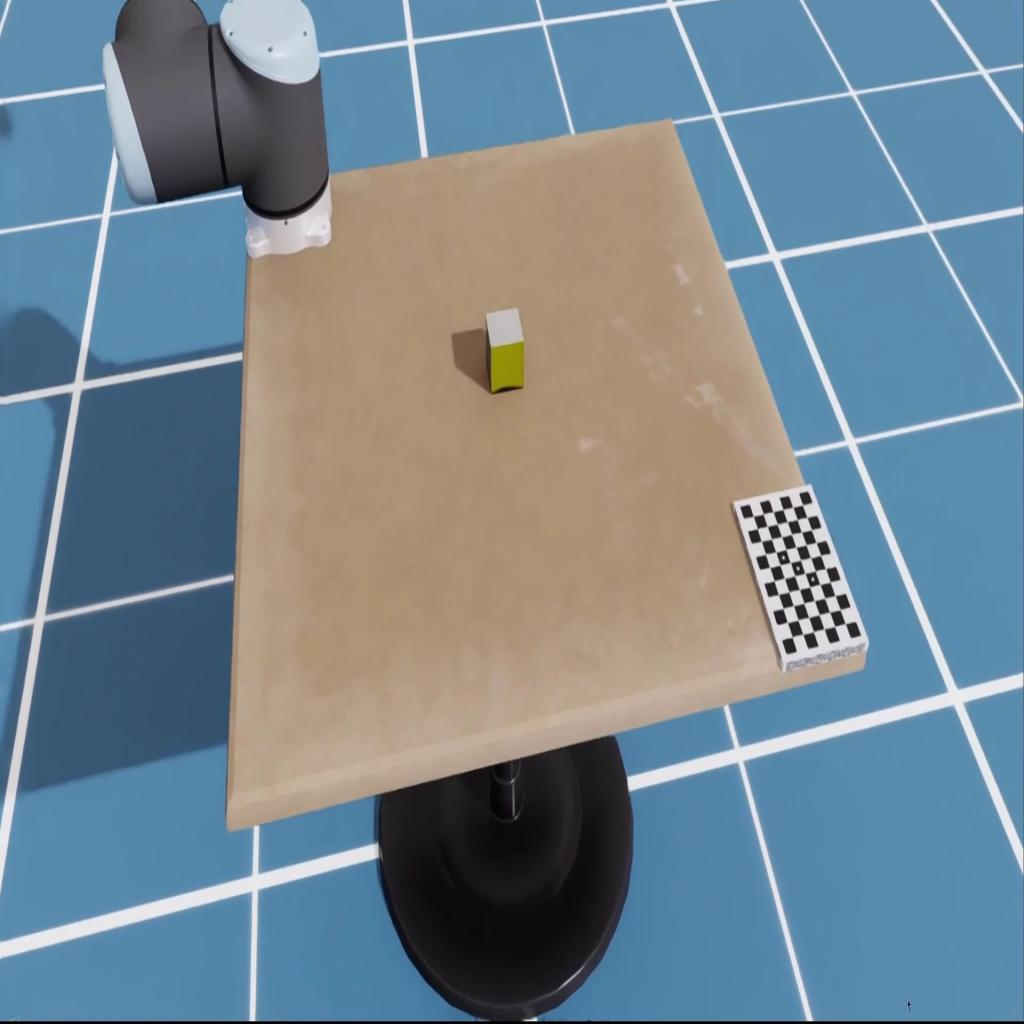Cube: (485, 306, 524, 394)
QR: (731, 482, 868, 674)
Robot: (102, 0, 332, 257)
Table: (226, 115, 866, 835)
